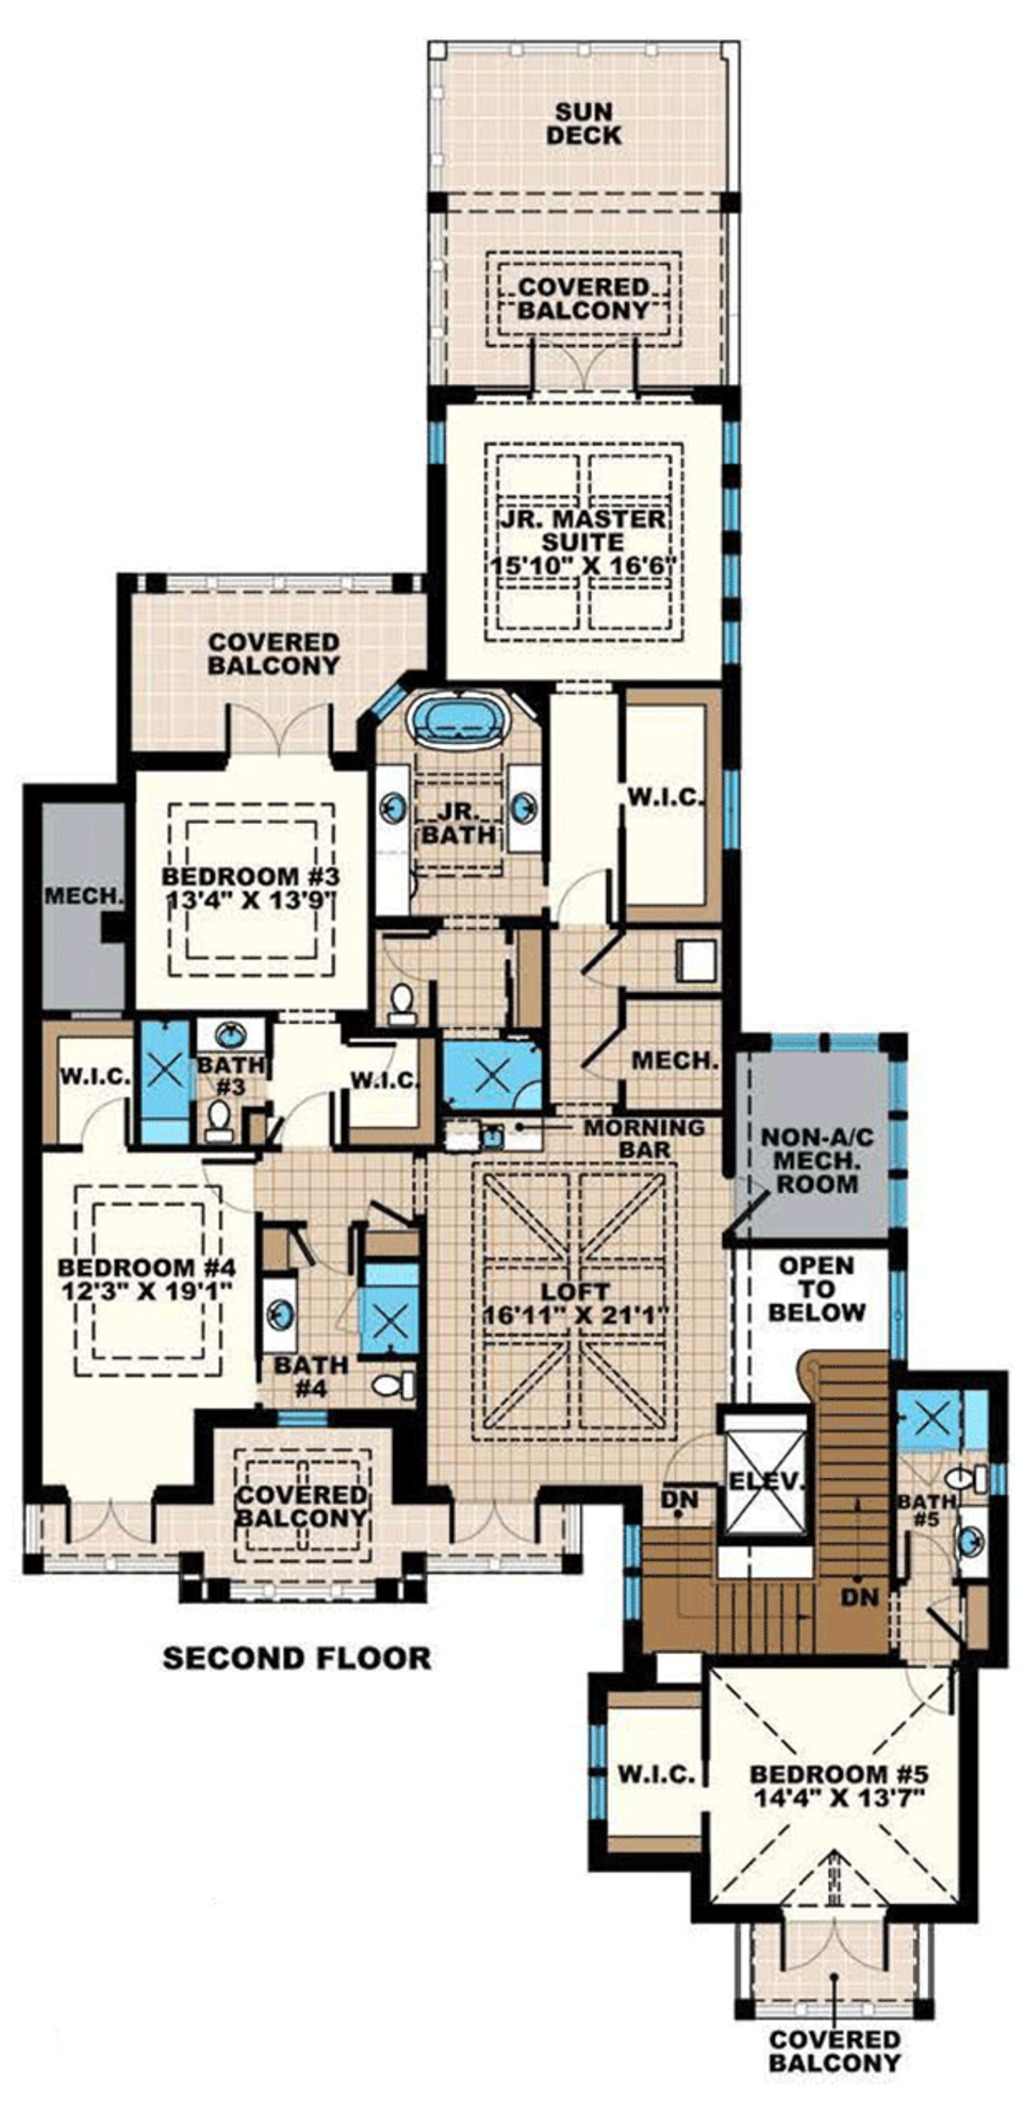door: (517, 331, 640, 415), (216, 689, 326, 770), (445, 1492, 556, 1552), (776, 1915, 887, 1974), (54, 1492, 172, 1543), (556, 863, 617, 927), (76, 1094, 133, 1157), (576, 937, 630, 987)
small_sink: (258, 1267, 299, 1349), (189, 1010, 260, 1052)
stairs: (789, 1342, 904, 1666), (645, 1510, 789, 1665)
tub: (404, 684, 526, 760)
windows: (707, 409, 749, 676), (885, 1047, 914, 1242)
